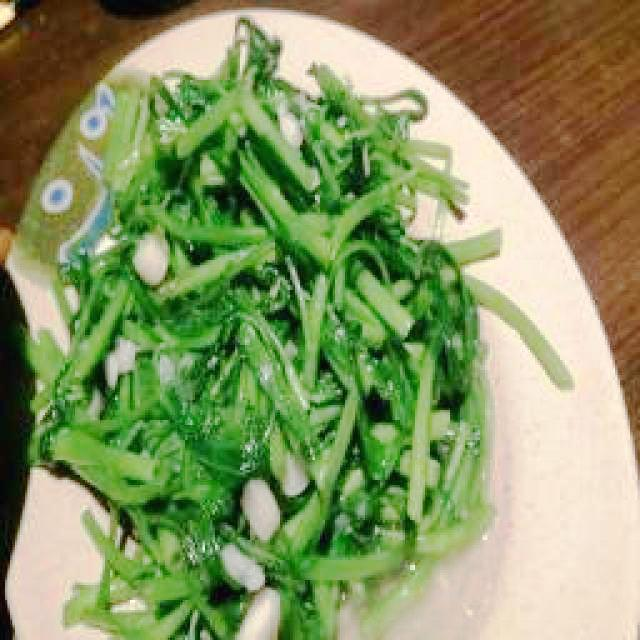water_spinach: (28, 39, 512, 628)
